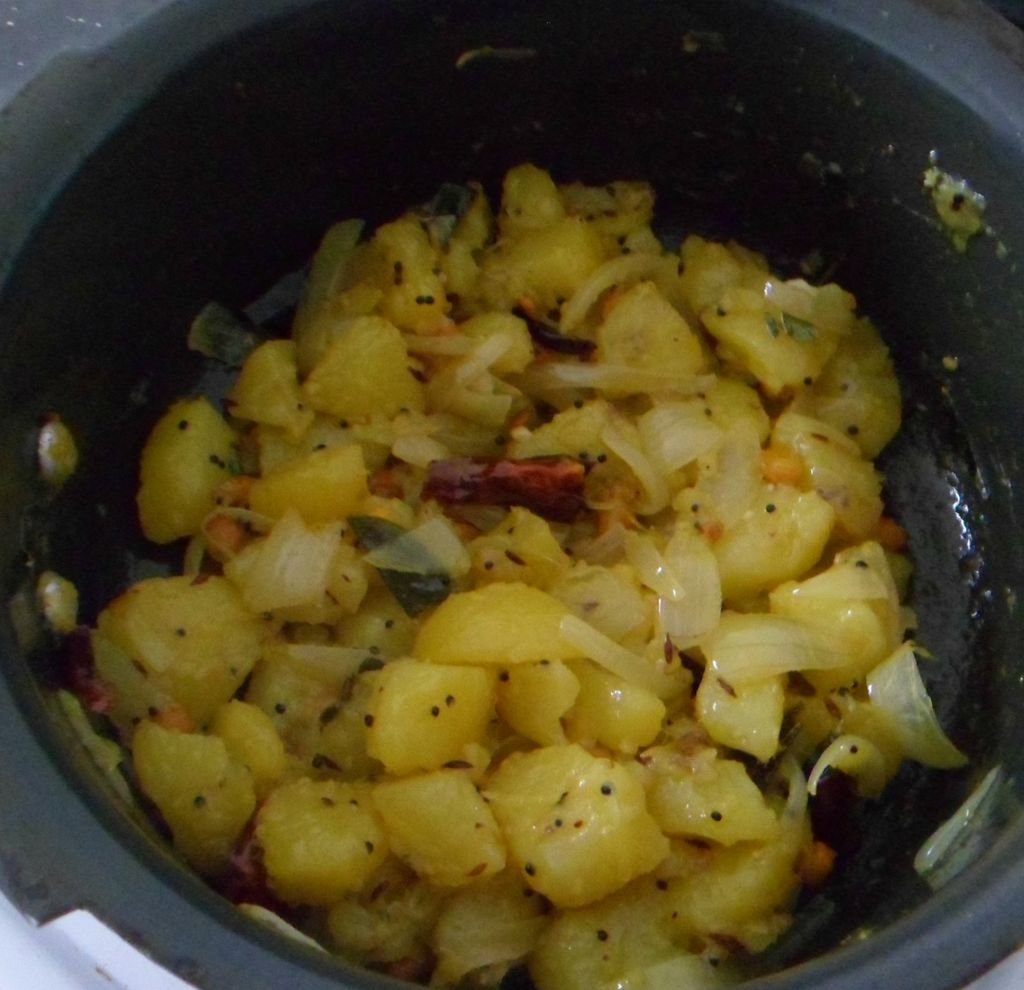boiled potatoes: (173, 354, 788, 918)
